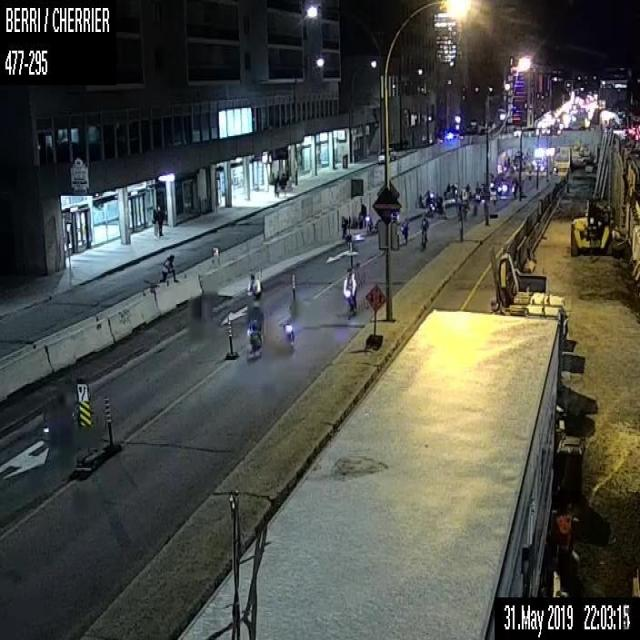construction: (364, 284, 386, 339), (104, 394, 112, 446), (225, 316, 233, 355), (290, 272, 295, 299), (349, 242, 353, 270), (211, 244, 217, 255)
cyclist: (244, 272, 264, 310), (343, 269, 358, 318), (245, 313, 262, 355), (418, 216, 428, 247), (364, 214, 373, 234)
pedestrian: (159, 252, 177, 280), (357, 202, 366, 228), (151, 204, 157, 236), (158, 204, 163, 236), (274, 174, 280, 198), (341, 215, 347, 238)
vehicle: (377, 147, 395, 161)
